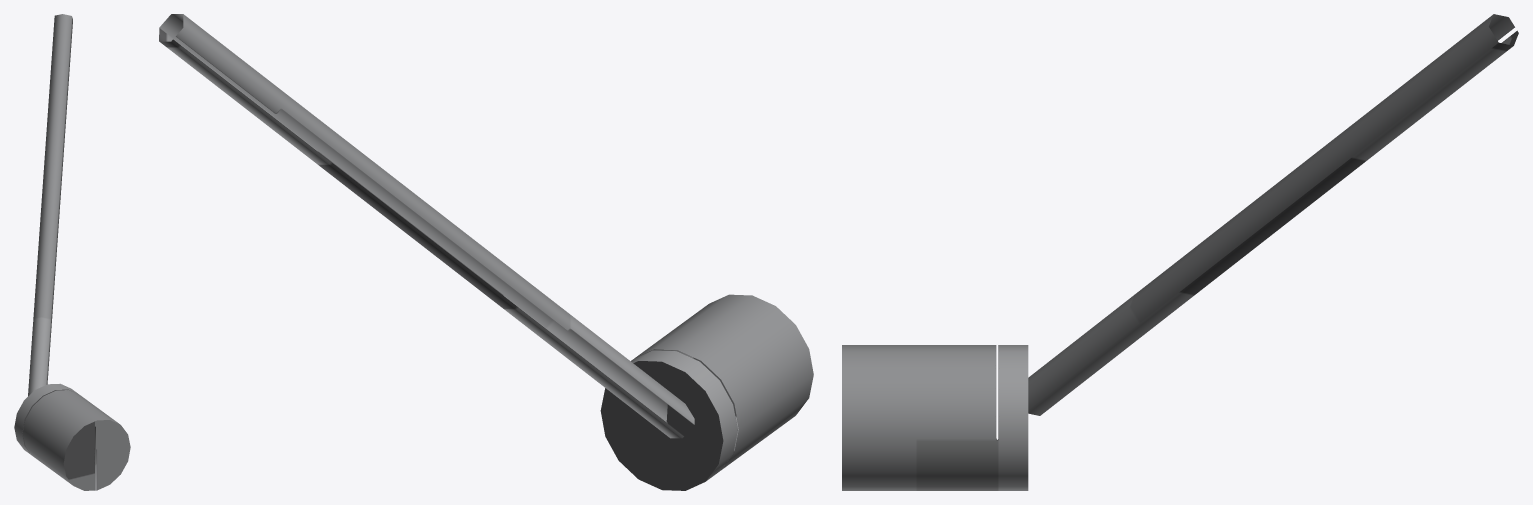
3 views of the same model, side by side, from view 1: azimuth 30°, elevation 25°; view 2: azimuth 150°, elevation 25°; view 3: azimuth 270°, elevation 25° (orthographic). The views are drawn at different scales.
Bounding box in the file's own units: 0.5064 × 0.8347 × 0.8571.
